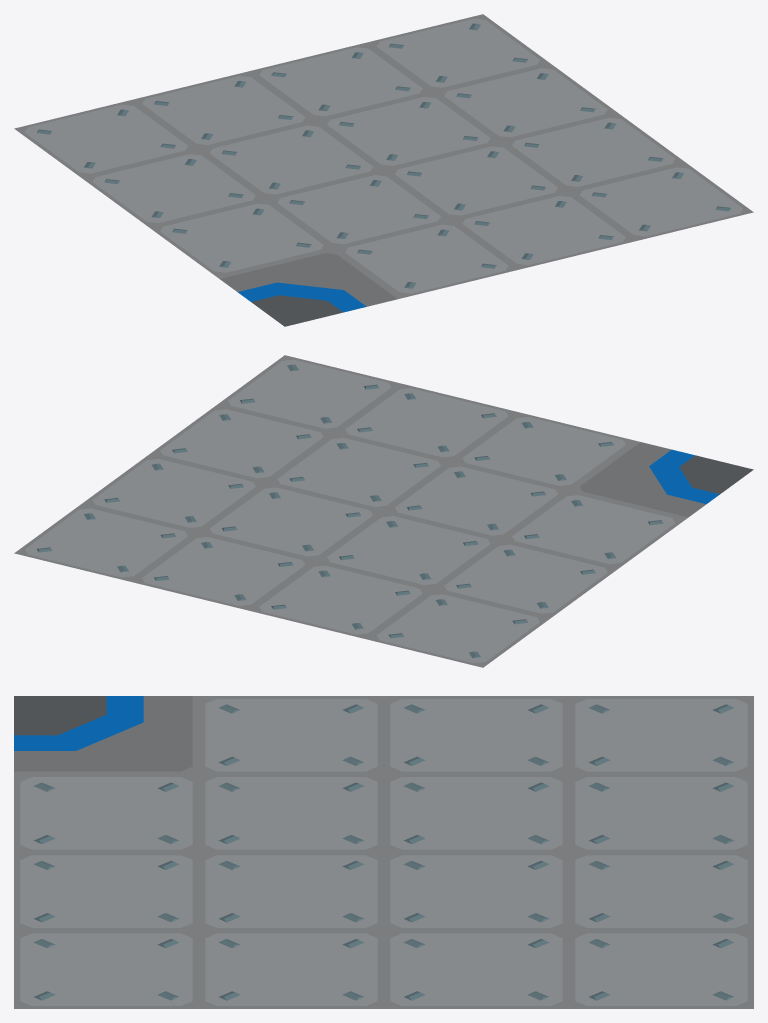
File: Floor_type_B_010.fbx
3 renders of one model, top to bottom at view 1: azimuth 30°, elevation 25°; view 2: azimuth 150°, elevation 25°; view 3: azimuth 270°, elevation 25°, orthographic. The views are drawn at different scales.
Visible parts, largest first — view 1: Floor_type_B_010; view 2: Floor_type_B_010; view 3: Floor_type_B_010.
Boxes of the visible parts, x1=… form: Floor_type_B_010: x1=14, y1=14, x2=753, y2=326; Floor_type_B_010: x1=14, y1=355, x2=753, y2=667; Floor_type_B_010: x1=14, y1=696, x2=753, y2=1008.
Bounding box in the file's own units: 400 × 400 × 0.8.
